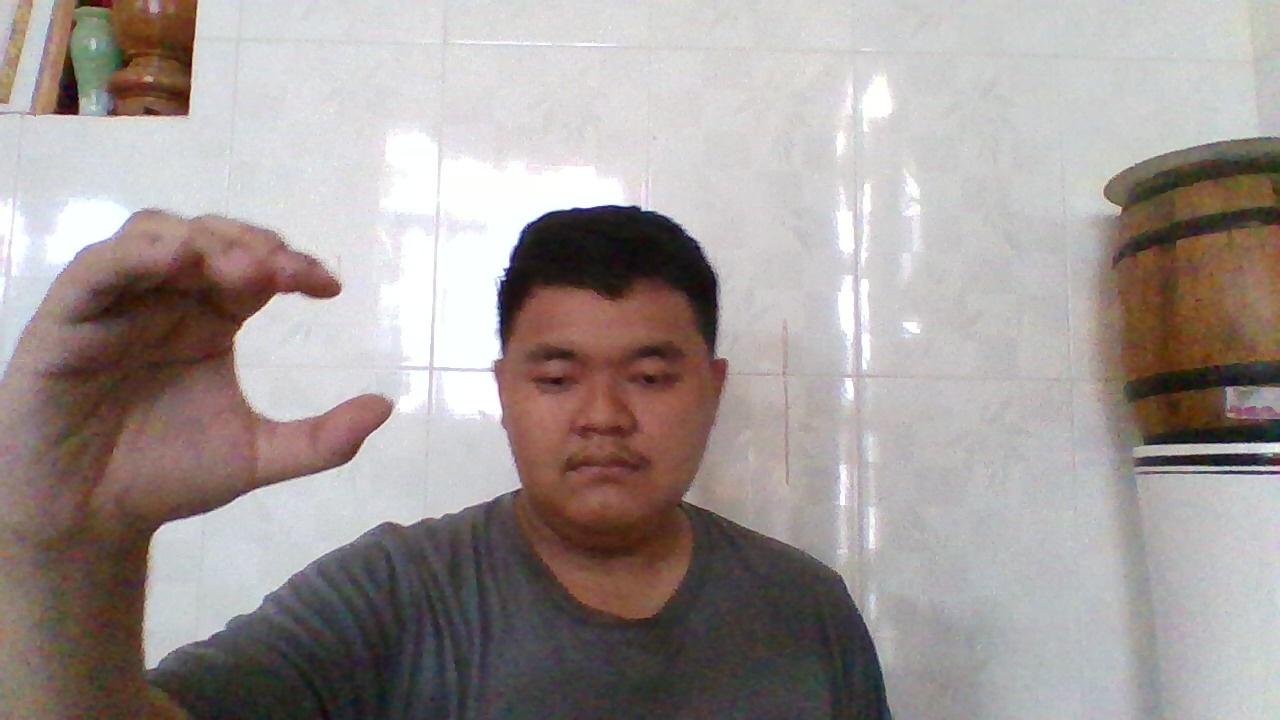C: (48, 215, 387, 549)
